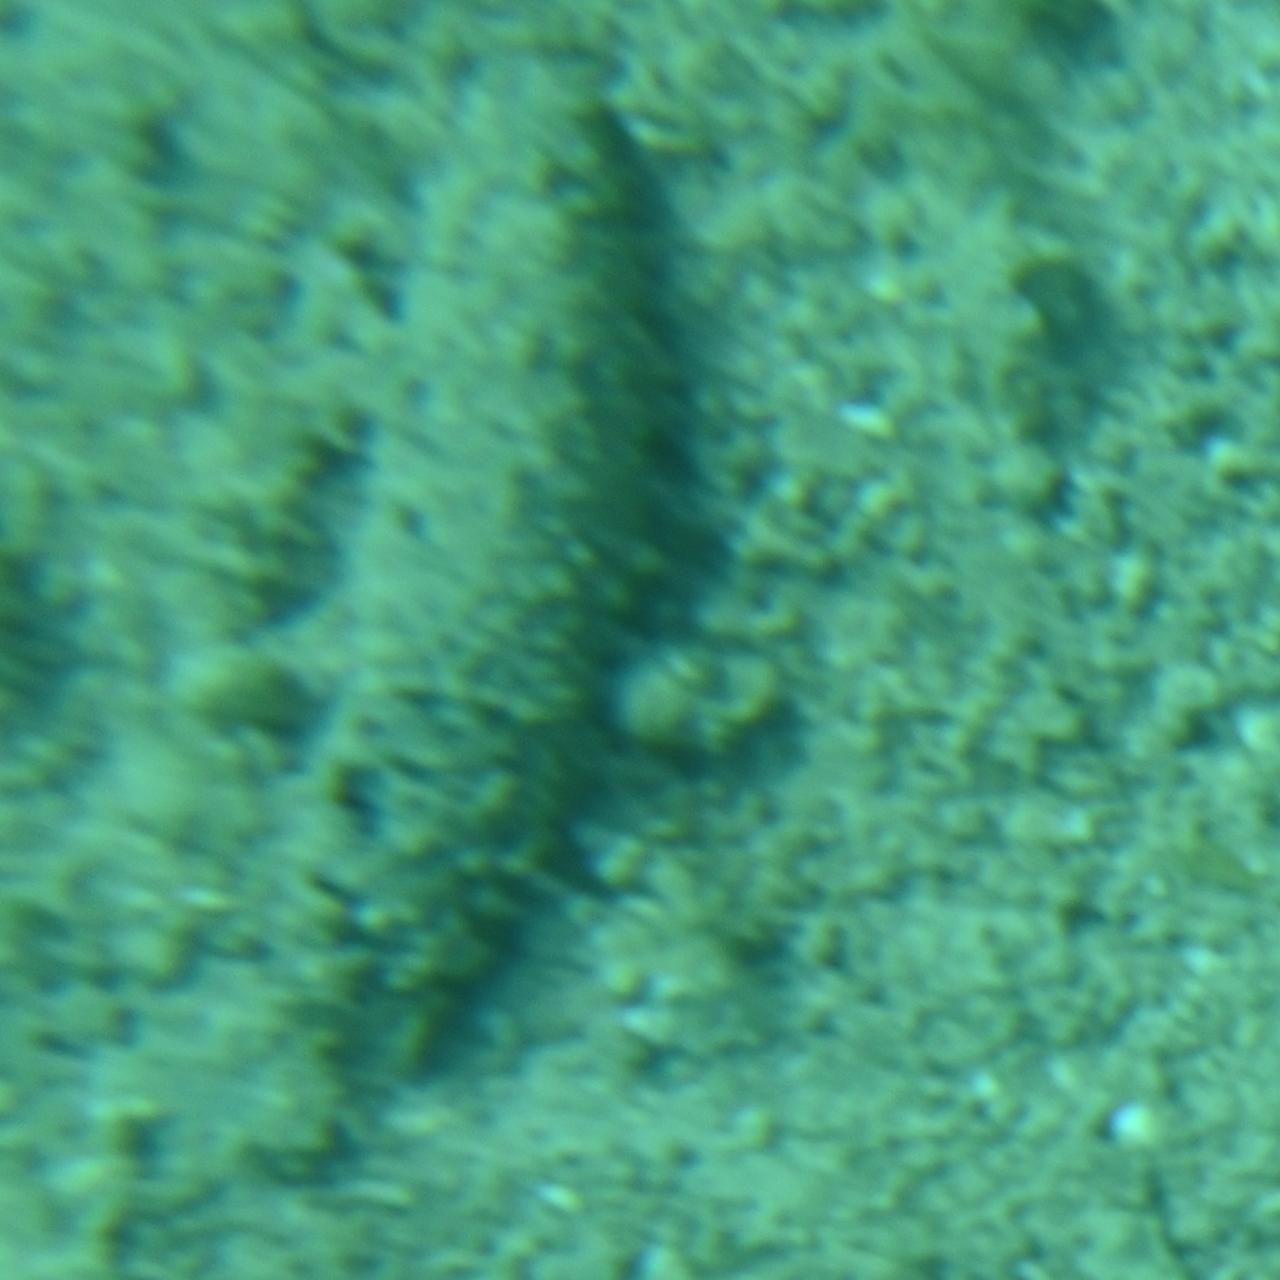Holothuria tubulosa: (229, 100, 706, 1118)
